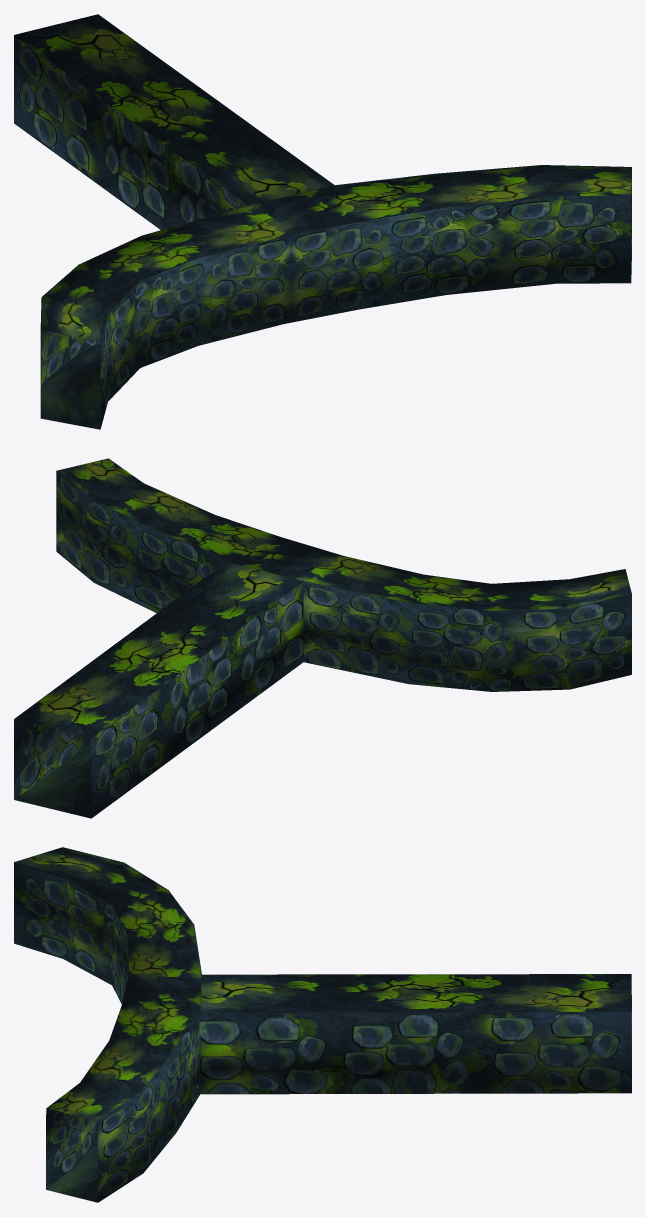
The model's file is Pasillo Parte dos.fbx.
3 renders of one model, top to bottom at view 1: azimuth 30°, elevation 25°; view 2: azimuth 150°, elevation 25°; view 3: azimuth 270°, elevation 25°, orthographic. The views are drawn at different scales.
Visible parts, largest first — view 1: hall2.019; view 2: hall2.019; view 3: hall2.019.
Part boxes in pixels (box(x1,y1,x2,y2)): hall2.019: box(14, 14, 631, 429); hall2.019: box(14, 458, 631, 818); hall2.019: box(14, 847, 631, 1202).
Bounding box in the file's own units: 7006 × 6671 × 970.
